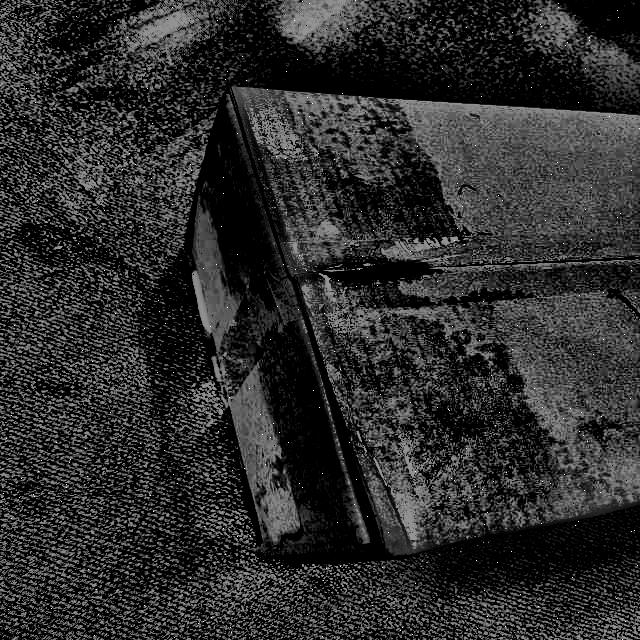box: (146, 84, 640, 579)
wet: (203, 329, 542, 559), (190, 81, 463, 299)
